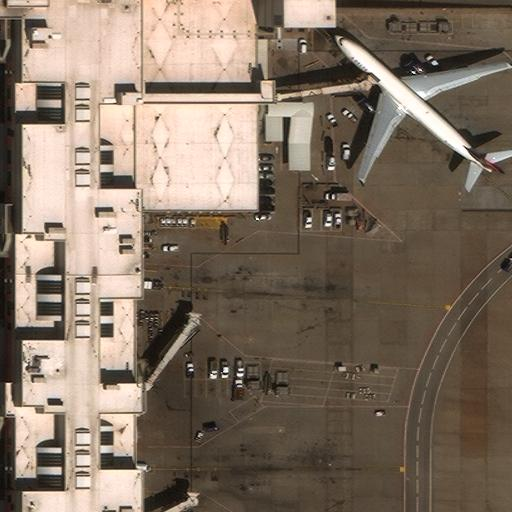Large Civil Transport: (333, 33, 507, 179)
